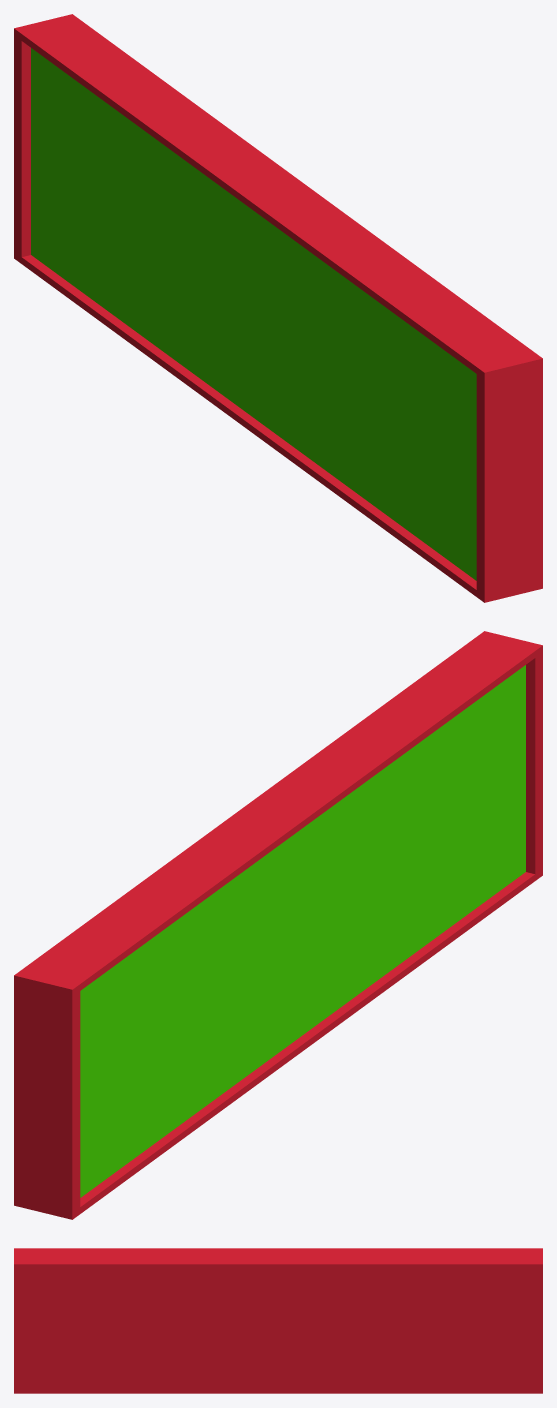
Rendered from ExitSign.fbx.
The picture shows the model from 3 angles, top to bottom: view 1: azimuth 30°, elevation 25°; view 2: azimuth 150°, elevation 25°; view 3: azimuth 270°, elevation 25°; orthographic projection. The views are drawn at different scales.
Parts seen in each view (by area): view 1: ExitSign; view 2: ExitSign; view 3: ExitSign.
Part boxes in pixels (x1,y1,x2,y2): ExitSign: (14,14,542,602); ExitSign: (14,631,542,1219); ExitSign: (14,1248,542,1393).
Size of the model in its own units: 4.7 by 17.67 by 65.46.
